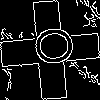O: (25, 25, 74, 68)
